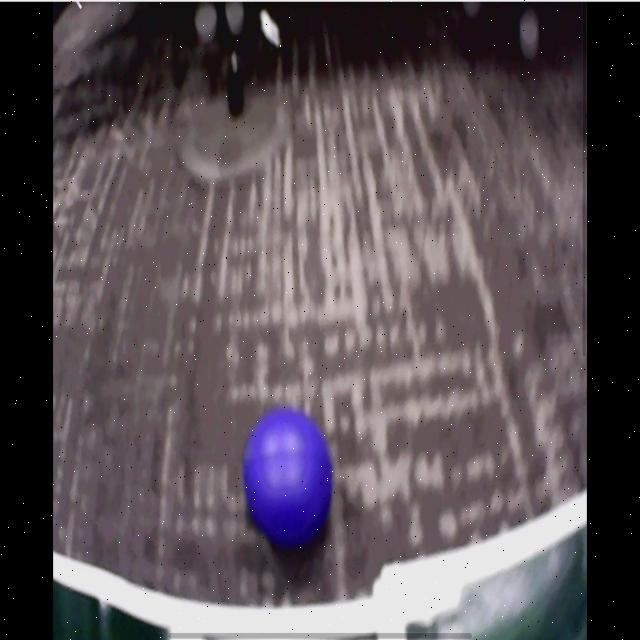ball: (245, 412, 334, 550)
